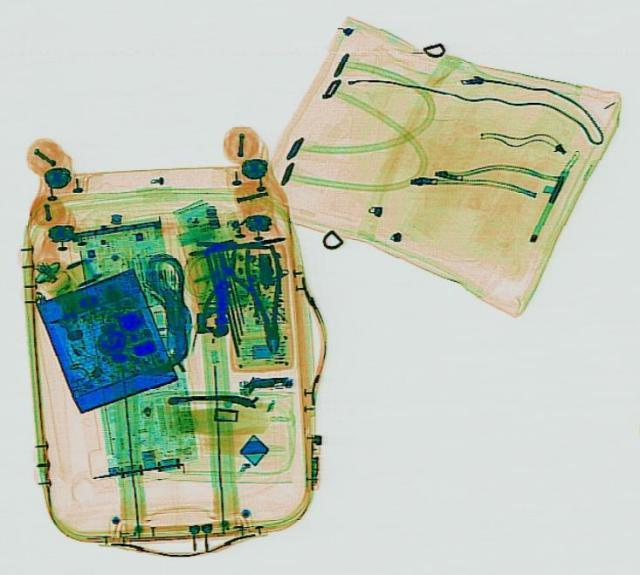Pliers: (240, 242, 290, 355), (198, 245, 258, 324)
